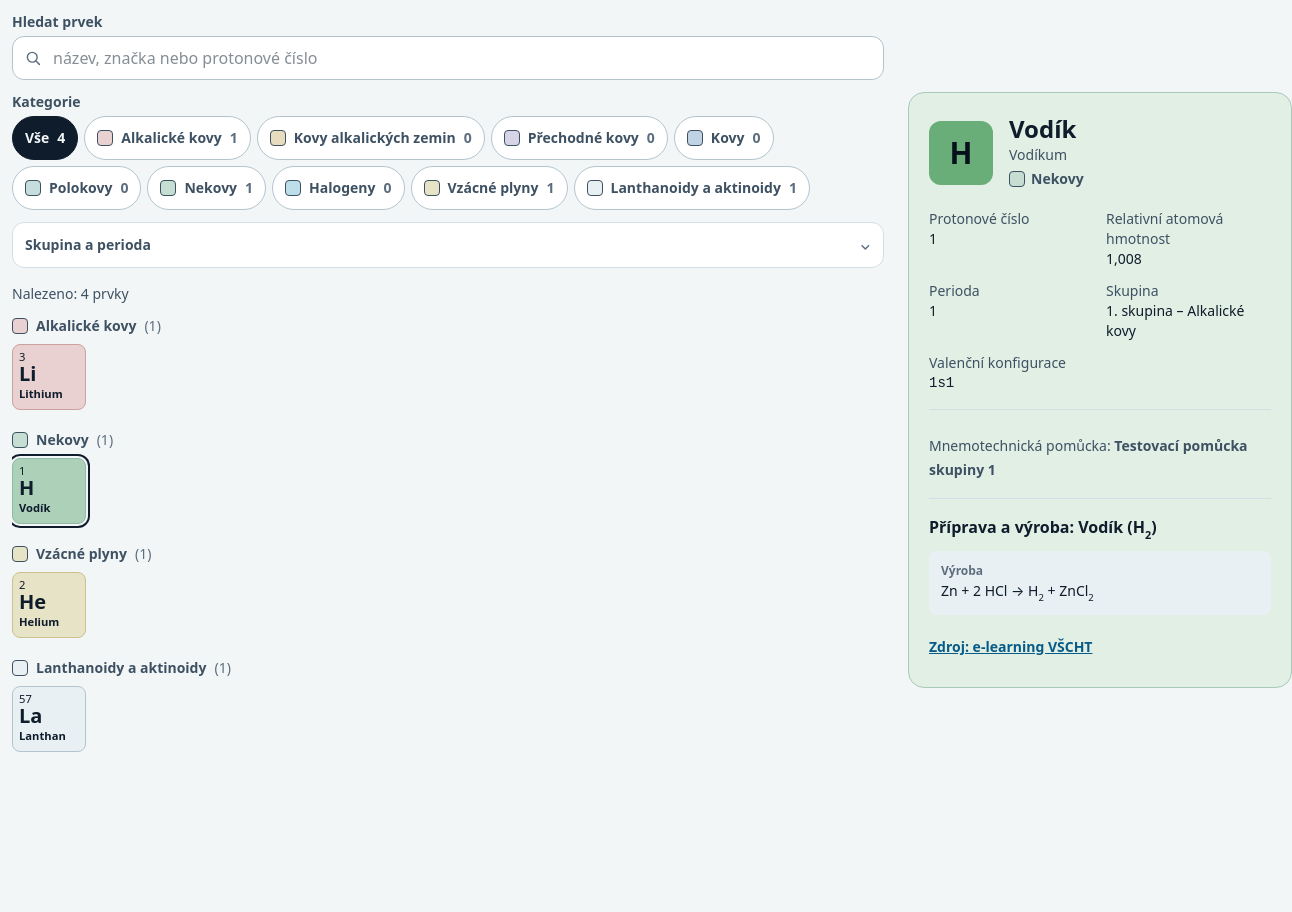
ElementBrowser › names the category in the detail and links the element in the URL hash
Click the button "2 He Helium".
click(49, 605)  # box x1=12 y1=572 x2=86 y2=638
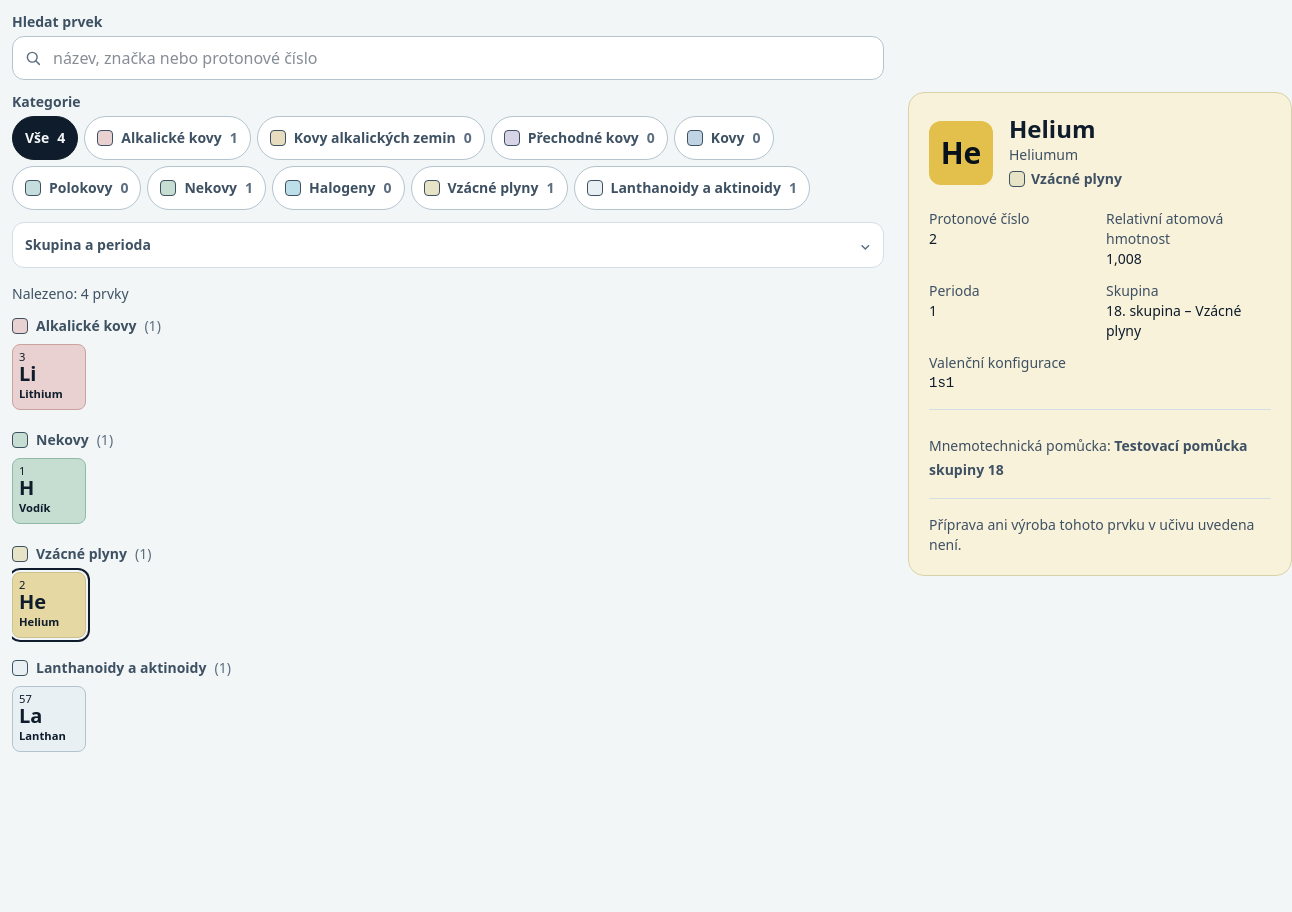
Expected: the text "Vzácné plyny" is shown, x1=1031 y1=169 x2=1122 y2=189
